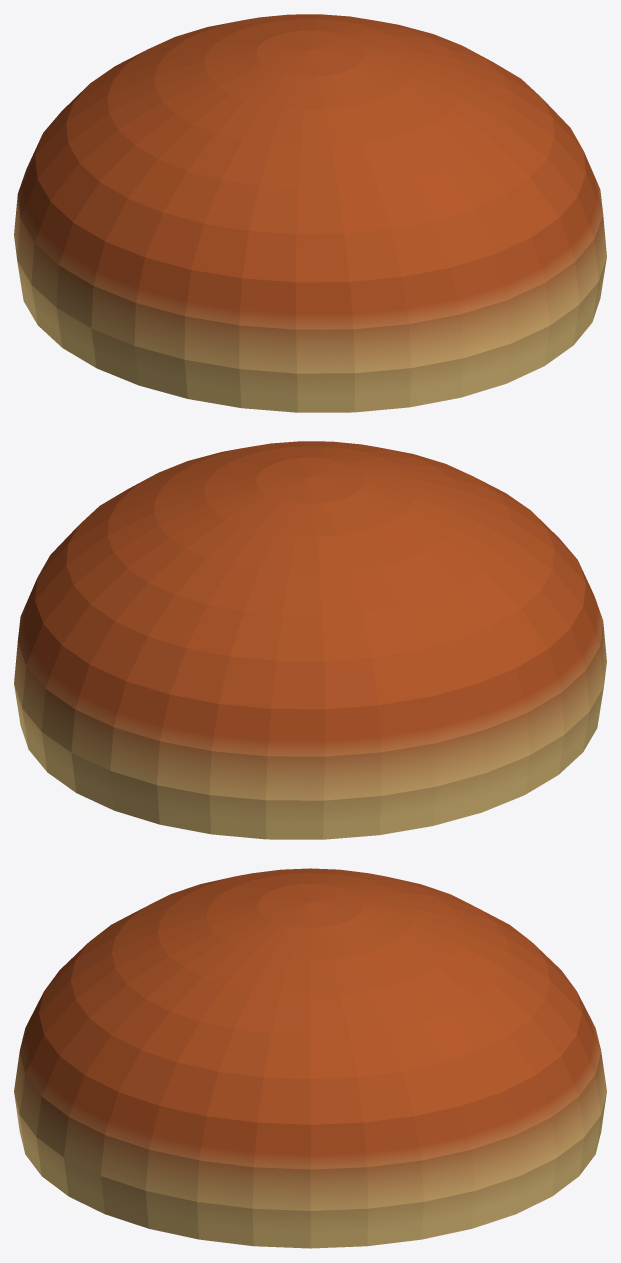
Rendered from upperbun.fbx.
The picture shows the model from 3 angles, top to bottom: view 1: azimuth 30°, elevation 25°; view 2: azimuth 150°, elevation 25°; view 3: azimuth 270°, elevation 25°; orthographic projection. The views are drawn at different scales.
Visible parts, largest first — view 1: gornji; view 2: gornji; view 3: gornji.
Part boxes in pixels (x1,y1,x2,y2): gornji: [14, 14, 606, 412]; gornji: [14, 441, 606, 839]; gornji: [14, 868, 606, 1248].
Bounding box in the file's own units: 190 × 85.05 × 199.
Materials: 1 (1 with a texture image).
